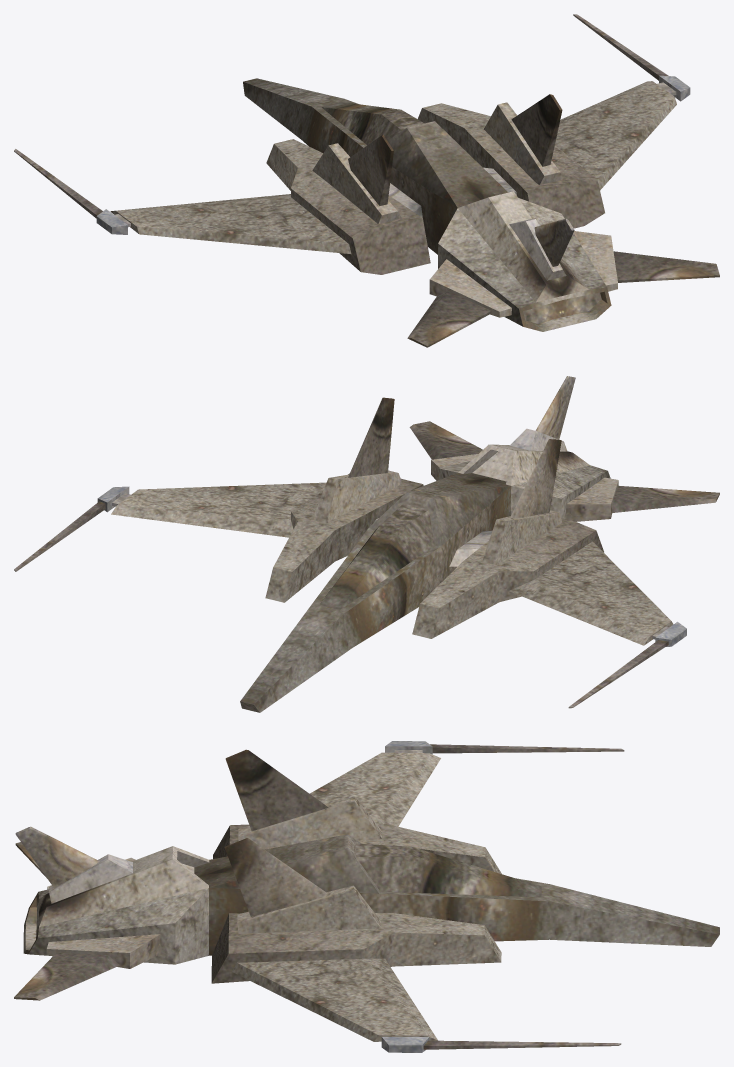
Rendered from EuroFighter.FBX.
3 views of the same model, one above another, from view 1: azimuth 30°, elevation 25°; view 2: azimuth 150°, elevation 25°; view 3: azimuth 270°, elevation 25° (orthographic). The views are drawn at different scales.
Parts seen in each view (by area): view 1: dark_fighter_6; view 2: dark_fighter_6; view 3: dark_fighter_6.
Boxes of the visible parts, bbox=[...] form: dark_fighter_6: bbox=[14, 14, 719, 347]; dark_fighter_6: bbox=[14, 376, 719, 712]; dark_fighter_6: bbox=[14, 741, 719, 1052].
Size of the model in its own units: 1.47 by 0.3326 by 1.44.
1 material, 1 textured.
